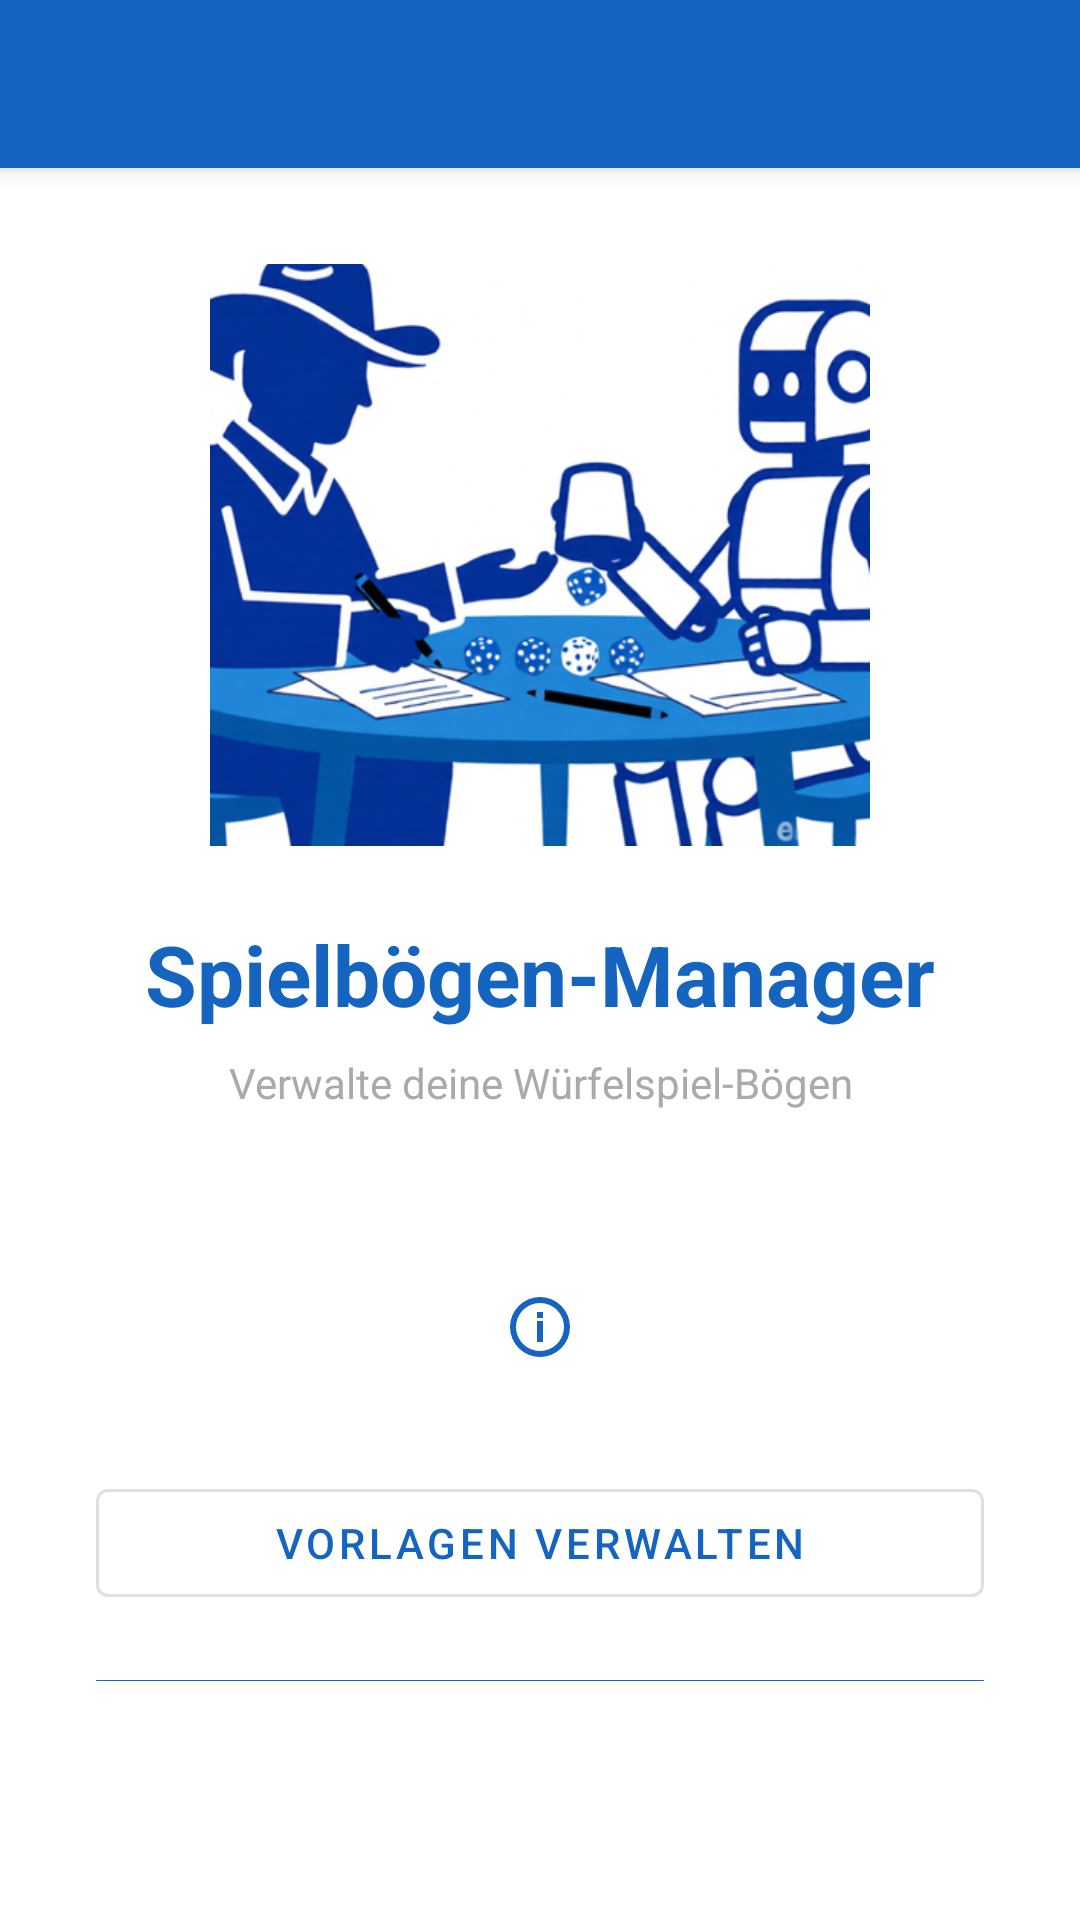

Point at icon controls on the screen. Image size 1080px x 1920px, points as (x=x, y=y).
Bedienungshinweise: (x=540, y=1327)
